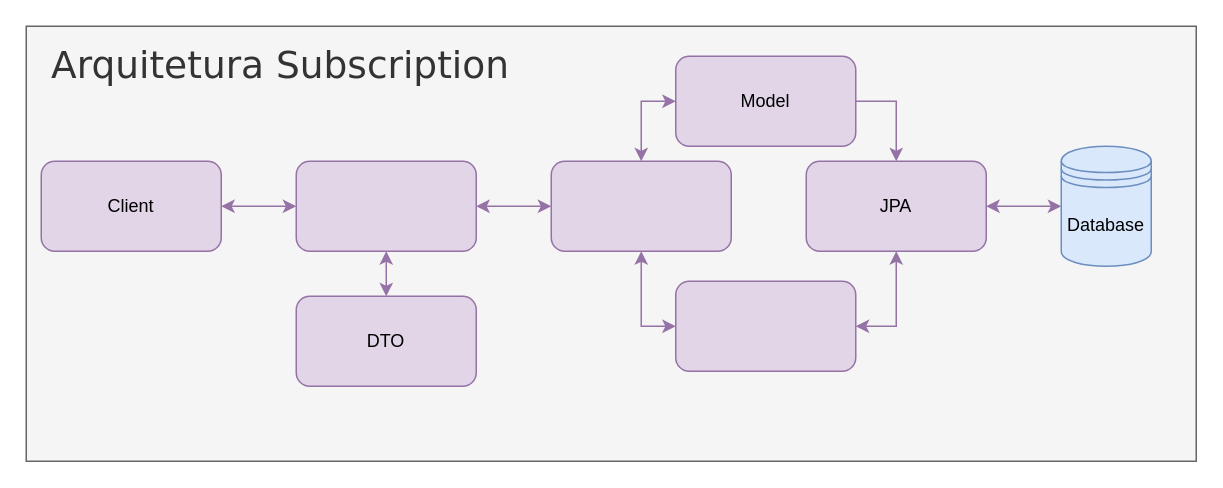
Image size: 1223x488. Some labels were removed from this diagram. Here are the shapes that lost their labels. From the top down, the centre of each, then its label:
At [385,205]: "Controller".
At [640,205]: "Service".
At [765,325]: "Repository".
